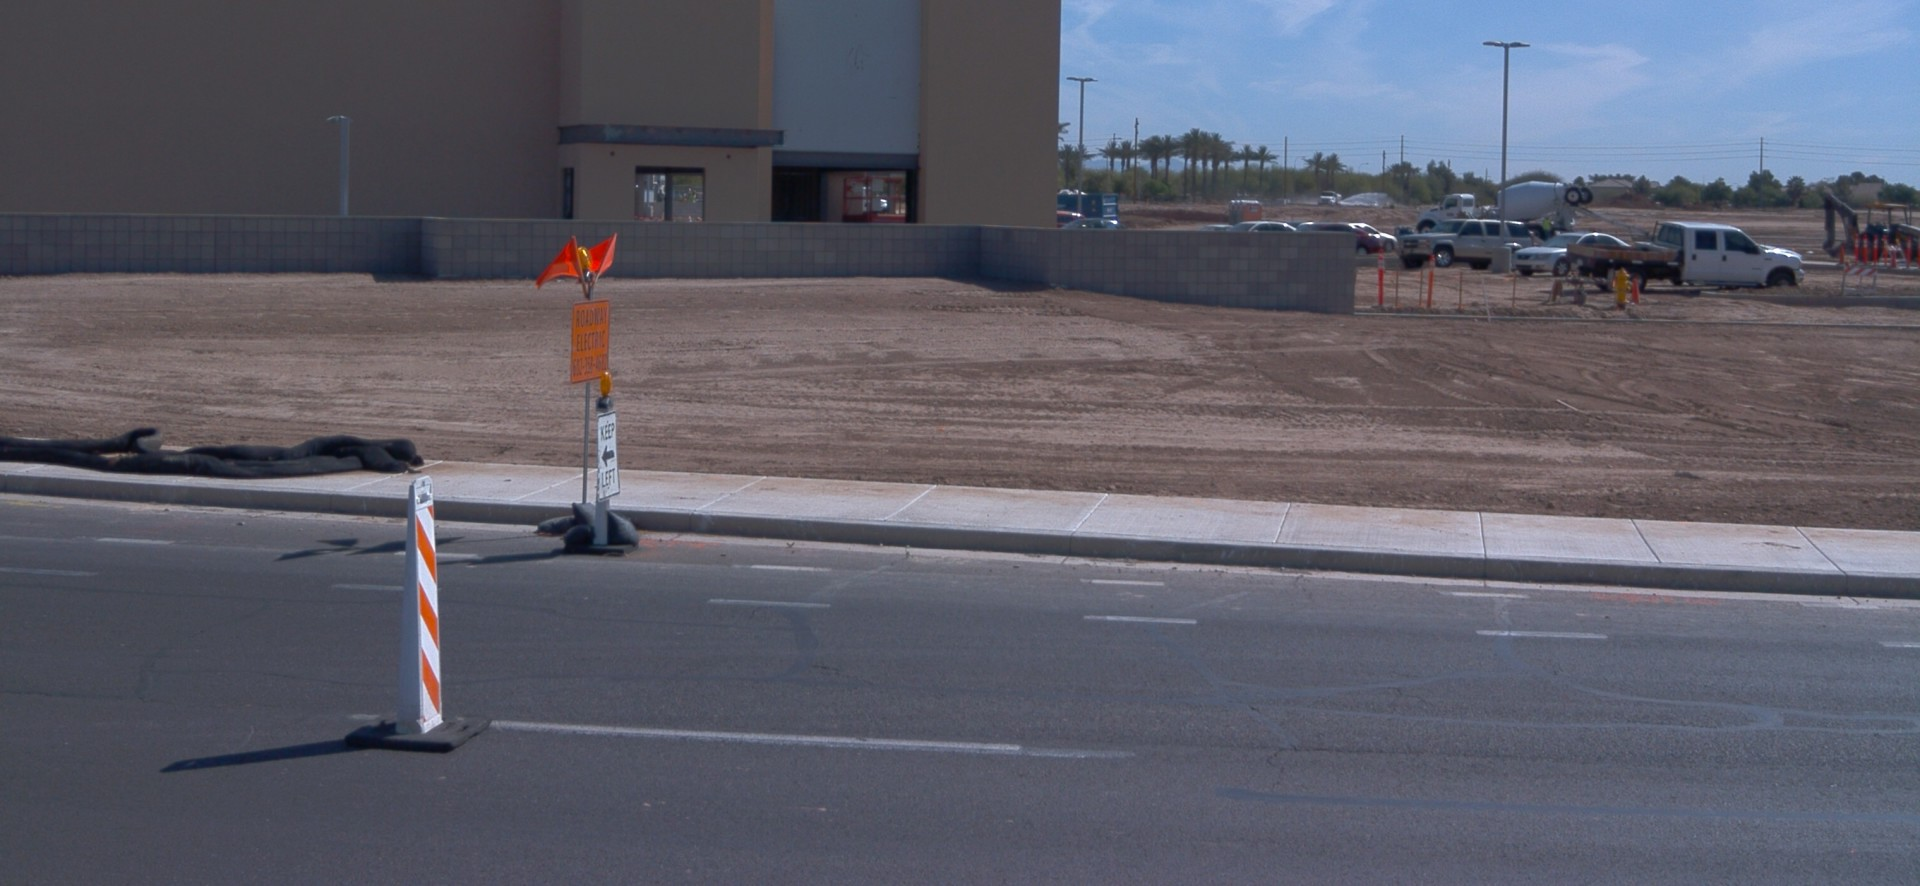TYPE_PEDESTRIAN: (1539, 213, 1553, 240)
TYPE_VEHICLE: (1566, 222, 1804, 295), (1426, 178, 1601, 234), (1817, 186, 1920, 265), (1399, 218, 1537, 269), (1515, 231, 1633, 278), (1299, 220, 1383, 259), (1347, 220, 1399, 254), (1226, 218, 1295, 233), (1449, 205, 1502, 222), (1057, 219, 1122, 230), (1055, 212, 1086, 229), (1319, 189, 1341, 205), (1196, 224, 1237, 229)
